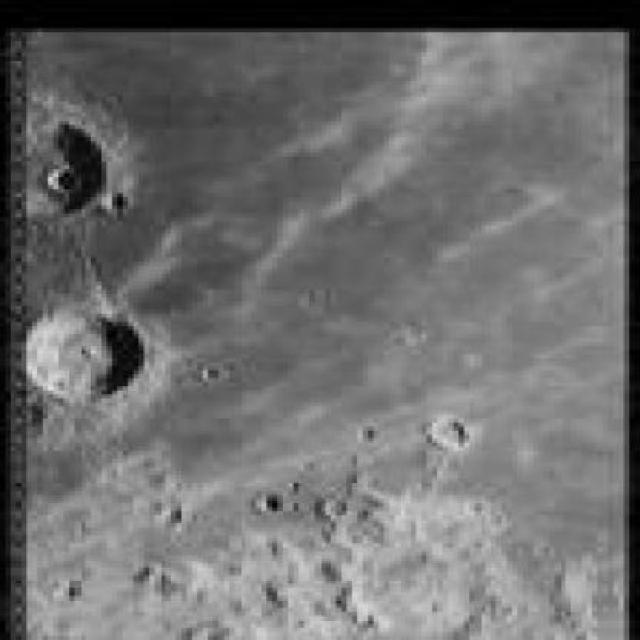crater: (29, 312, 143, 403), (26, 115, 106, 223), (48, 168, 84, 195)
